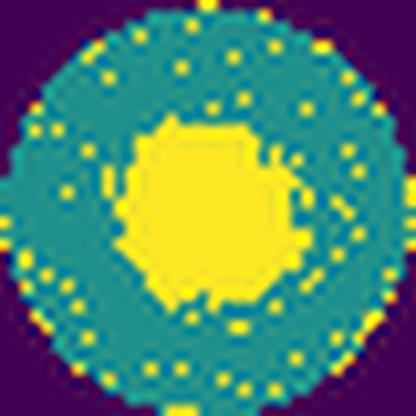Center: (111, 113, 311, 316)
